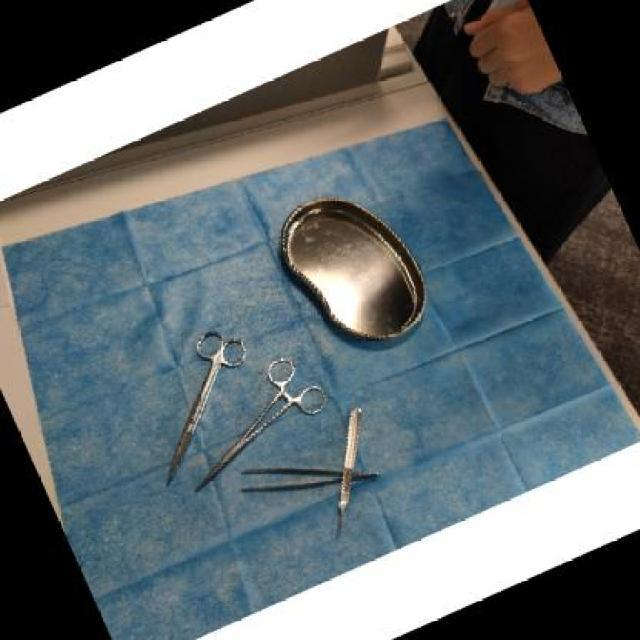tools_table: (54, 170, 608, 564)
